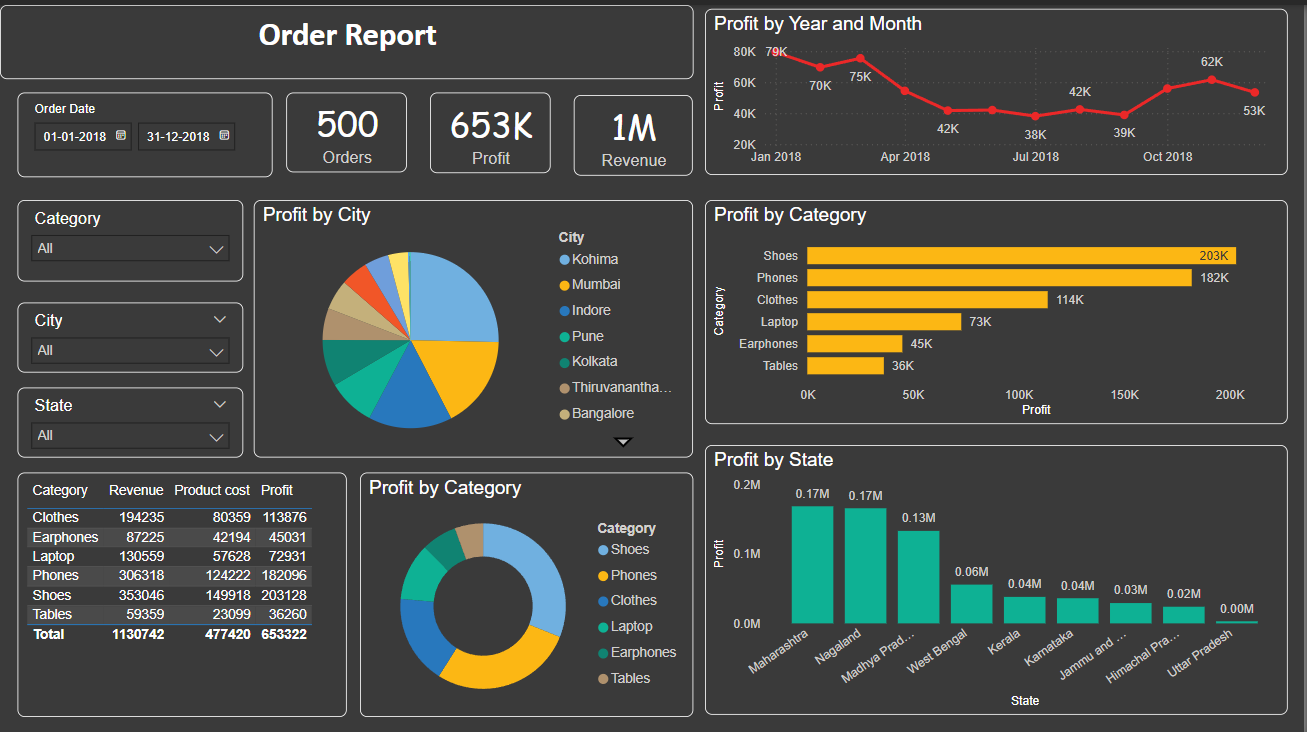

This screenshot's page, from the dashboard's own definition file:
{"tool":"powerbi","page":{"name":"Page 1","canvas":[1280,720],"ordinal":0},"visuals":[{"type":"textbox","box":[0,0,680.7,72.5],"z":0},{"type":"card","fields":{"Values":["CountNonNull(Orders.Order ID)"]},"box":[281.4,85.7,118.6,78.6],"z":1000},{"type":"card","fields":{"Values":["Sum(Orders.Profit)"]},"box":[422.7,86.5,118.6,79.5],"z":2000},{"type":"card","fields":{"Values":["Sum(Orders.order_total)"]},"box":[563.6,87.9,117.2,79.5],"z":3000},{"type":"lineChart","fields":{"Y":["Sum(Orders.Profit)"],"Category":["Orders.Order Date.Variation.Date Hierarchy.Year","Orders.Order Date.Variation.Date Hierarchy.Month"]},"box":[691.9,4.2,571.9,163.2],"z":4000},{"type":"clusteredBarChart","fields":{"Category":["Orders.Category"],"Y":["Sum(Orders.Profit)"]},"box":[691.9,191.1,571.9,220.4],"z":5000},{"type":"clusteredColumnChart","fields":{"Category":["Orders.State"],"Y":["Sum(Orders.Profit)"]},"box":[691.9,432.4,571.9,265],"z":6000},{"type":"pieChart","fields":{"Category":["Orders.City"],"Y":["Sum(Orders.Profit)"]},"box":[248.6,191.4,431.4,252.9],"z":7000},{"type":"donutChart","fields":{"Y":["Sum(Orders.Profit)"],"Category":["Orders.Category"]},"box":[352.9,458.6,327.1,240],"z":8000},{"type":"tableEx","fields":{"Values":["Orders.Category","Sum(Orders.order_total)","Sum(Orders.Product cost)","Sum(Orders.Profit)"]},"box":[17.1,458.6,322.9,240],"z":8001},{"type":"slicer","fields":{"Values":["Orders.Order Date"]},"box":[17.1,85.7,250,82.9],"z":8002},{"type":"slicer","fields":{"Values":["Orders.Category"]},"box":[17.1,191.4,221.4,80],"z":8003},{"type":"slicer","fields":{"Values":["Orders.City"]},"box":[17.1,291.4,221.4,68.6],"z":8004},{"type":"slicer","fields":{"Values":["Orders.State"]},"box":[17.1,375.7,221.4,68.6],"z":8005}]}

Visuals, with their boxes in screenshot pixels (x1, y1, x2, y2), scaled from the page's 1280x720 canvas onto the 1307x732 screenshot:
textbox: rect(0, 0, 695, 74)
card - CountNonNull(Orders.Order ID): rect(287, 87, 408, 167)
card - Sum(Orders.Profit): rect(432, 88, 553, 169)
card - Sum(Orders.order_total): rect(575, 89, 695, 170)
lineChart - Sum(Orders.Profit) x Orders.Order Date.Variation.Date Hierarchy.Year: rect(706, 4, 1290, 170)
clusteredBarChart - Orders.Category x Sum(Orders.Profit): rect(706, 194, 1290, 418)
clusteredColumnChart - Orders.State x Sum(Orders.Profit): rect(706, 440, 1290, 709)
pieChart - Orders.City x Sum(Orders.Profit): rect(254, 195, 694, 452)
donutChart - Sum(Orders.Profit) x Orders.Category: rect(360, 466, 694, 710)
tableEx - Orders.Category x Sum(Orders.order_total): rect(17, 466, 347, 710)
slicer - Orders.Order Date: rect(17, 87, 273, 171)
slicer - Orders.Category: rect(17, 195, 244, 276)
slicer - Orders.City: rect(17, 296, 244, 366)
slicer - Orders.State: rect(17, 382, 244, 452)
